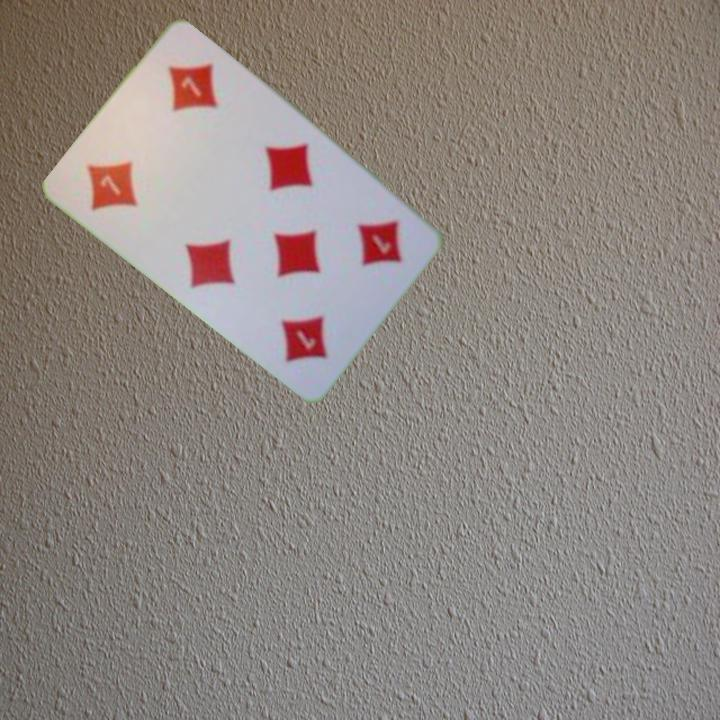d_7.png: (304, 181, 431, 311), (60, 110, 187, 239)
